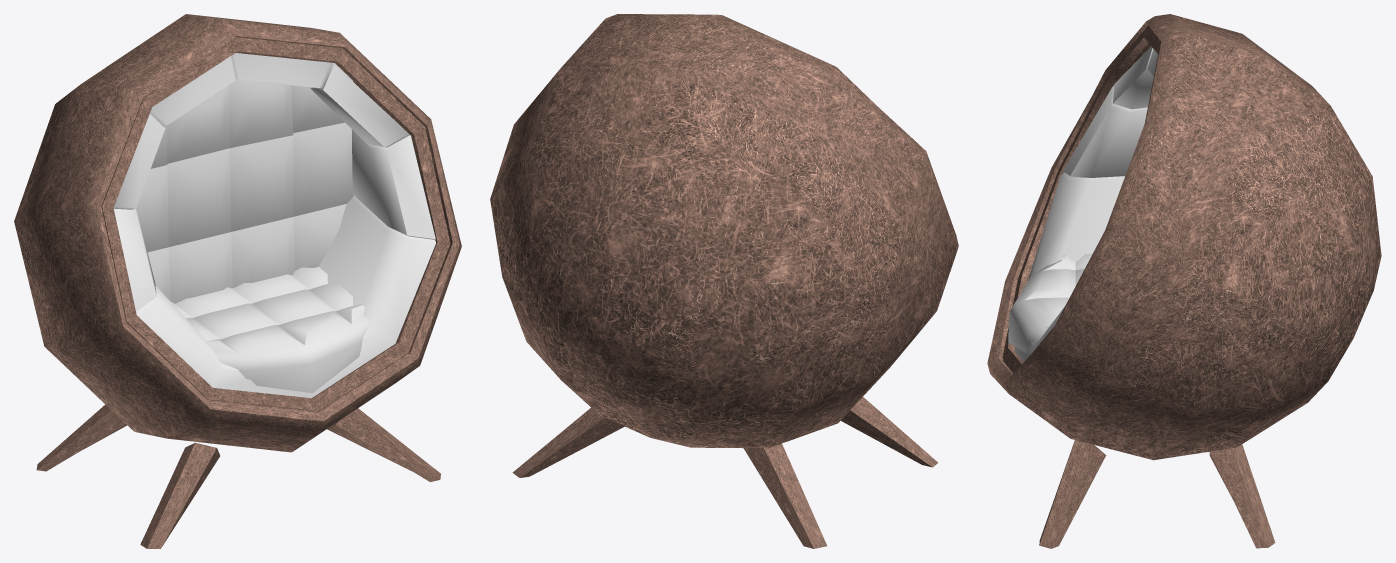
File: chair-coconut.glb
3 renders of one model, left to right at view 1: azimuth 30°, elevation 25°; view 2: azimuth 150°, elevation 25°; view 3: azimuth 270°, elevation 25°, orthographic. The views are drawn at different scales.
Visible parts, largest first — view 1: coconut-chair; view 2: coconut-chair; view 3: coconut-chair.
Boxes of the visible parts, left/top/right/bottom form: coconut-chair: left=14, top=14, right=461, bottom=548; coconut-chair: left=490, top=14, right=958, bottom=548; coconut-chair: left=987, top=14, right=1381, bottom=548.
Size of what is drawn, in the model's own units: 1.9 by 2.15 by 1.74.
Materials: 2 (1 with a texture image).
